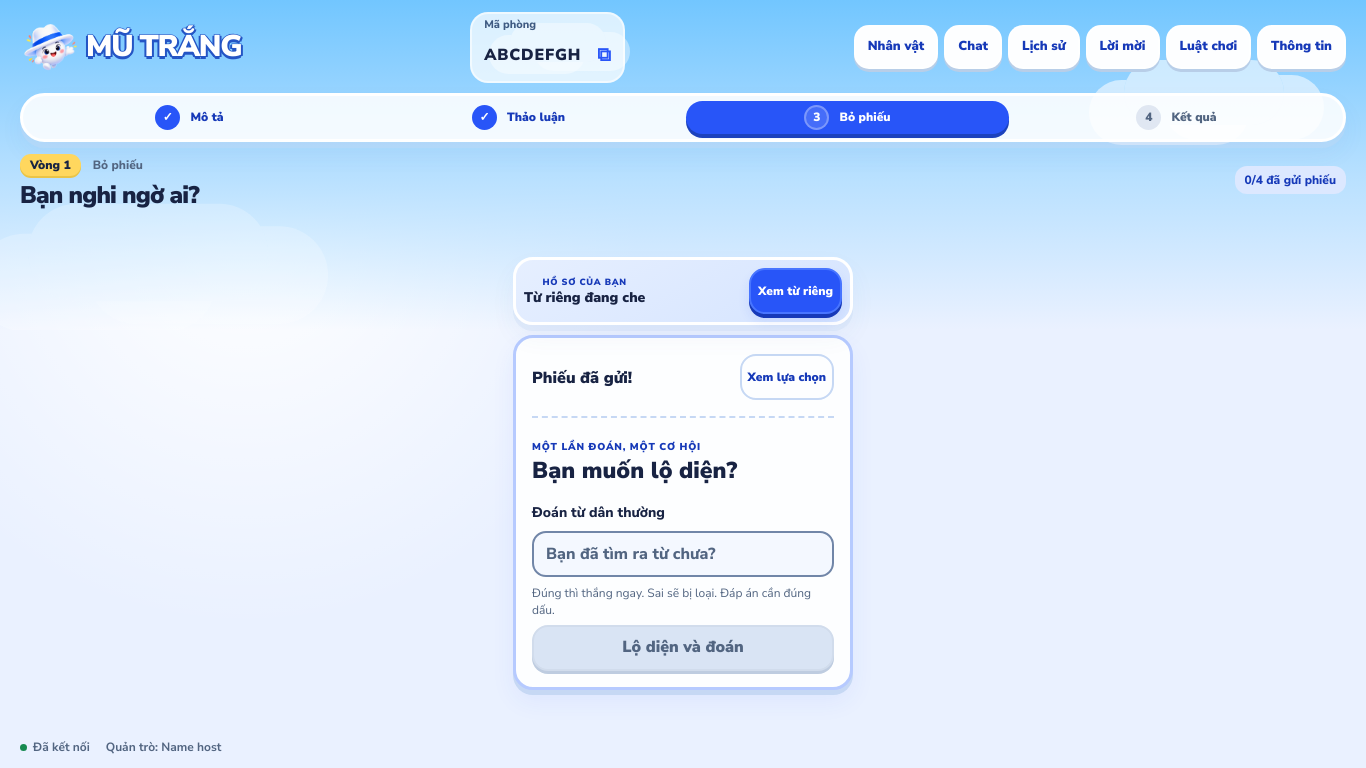
Test case: Mũ Trắng controls › keeps submission feedback and full ballot review alongside the white hat guess form
The width and height of the screenshot is (1366, 768).
expect the heading "Phiếu đã gửi!" is shown: met, box [532,368,632,388]
expect the field labelled "Đoán từ dân thường" is shown: met, box [532,531,834,577]
Click the button "Xem lựa chọn" at (787, 377), box [740,354,834,400]
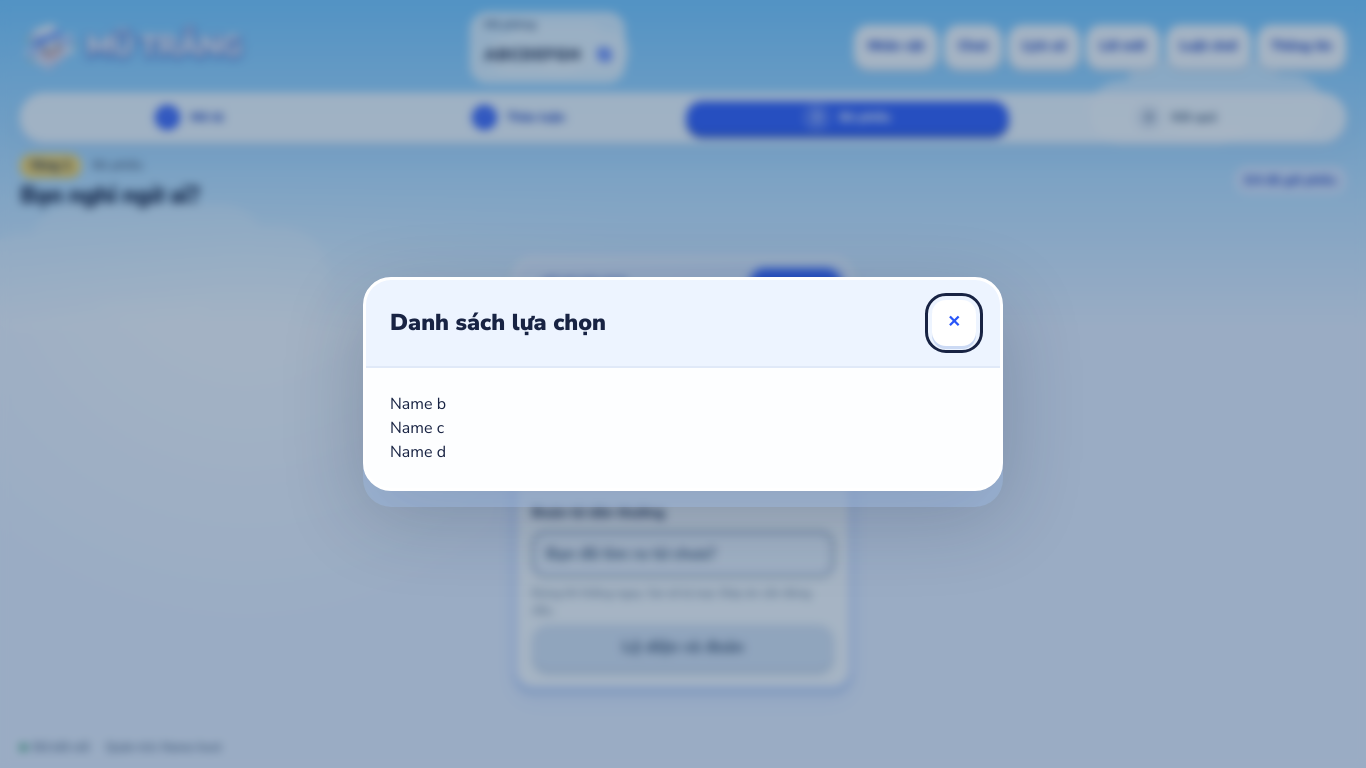
expect the dialog "Danh sách lựa chọn" shows "Name b": met, box [390,393,446,415]
expect the dialog "Danh sách lựa chọn" shows "Name c": met, box [390,417,444,439]
expect the dialog "Danh sách lựa chọn" shows "Name d": met, box [390,441,446,463]
